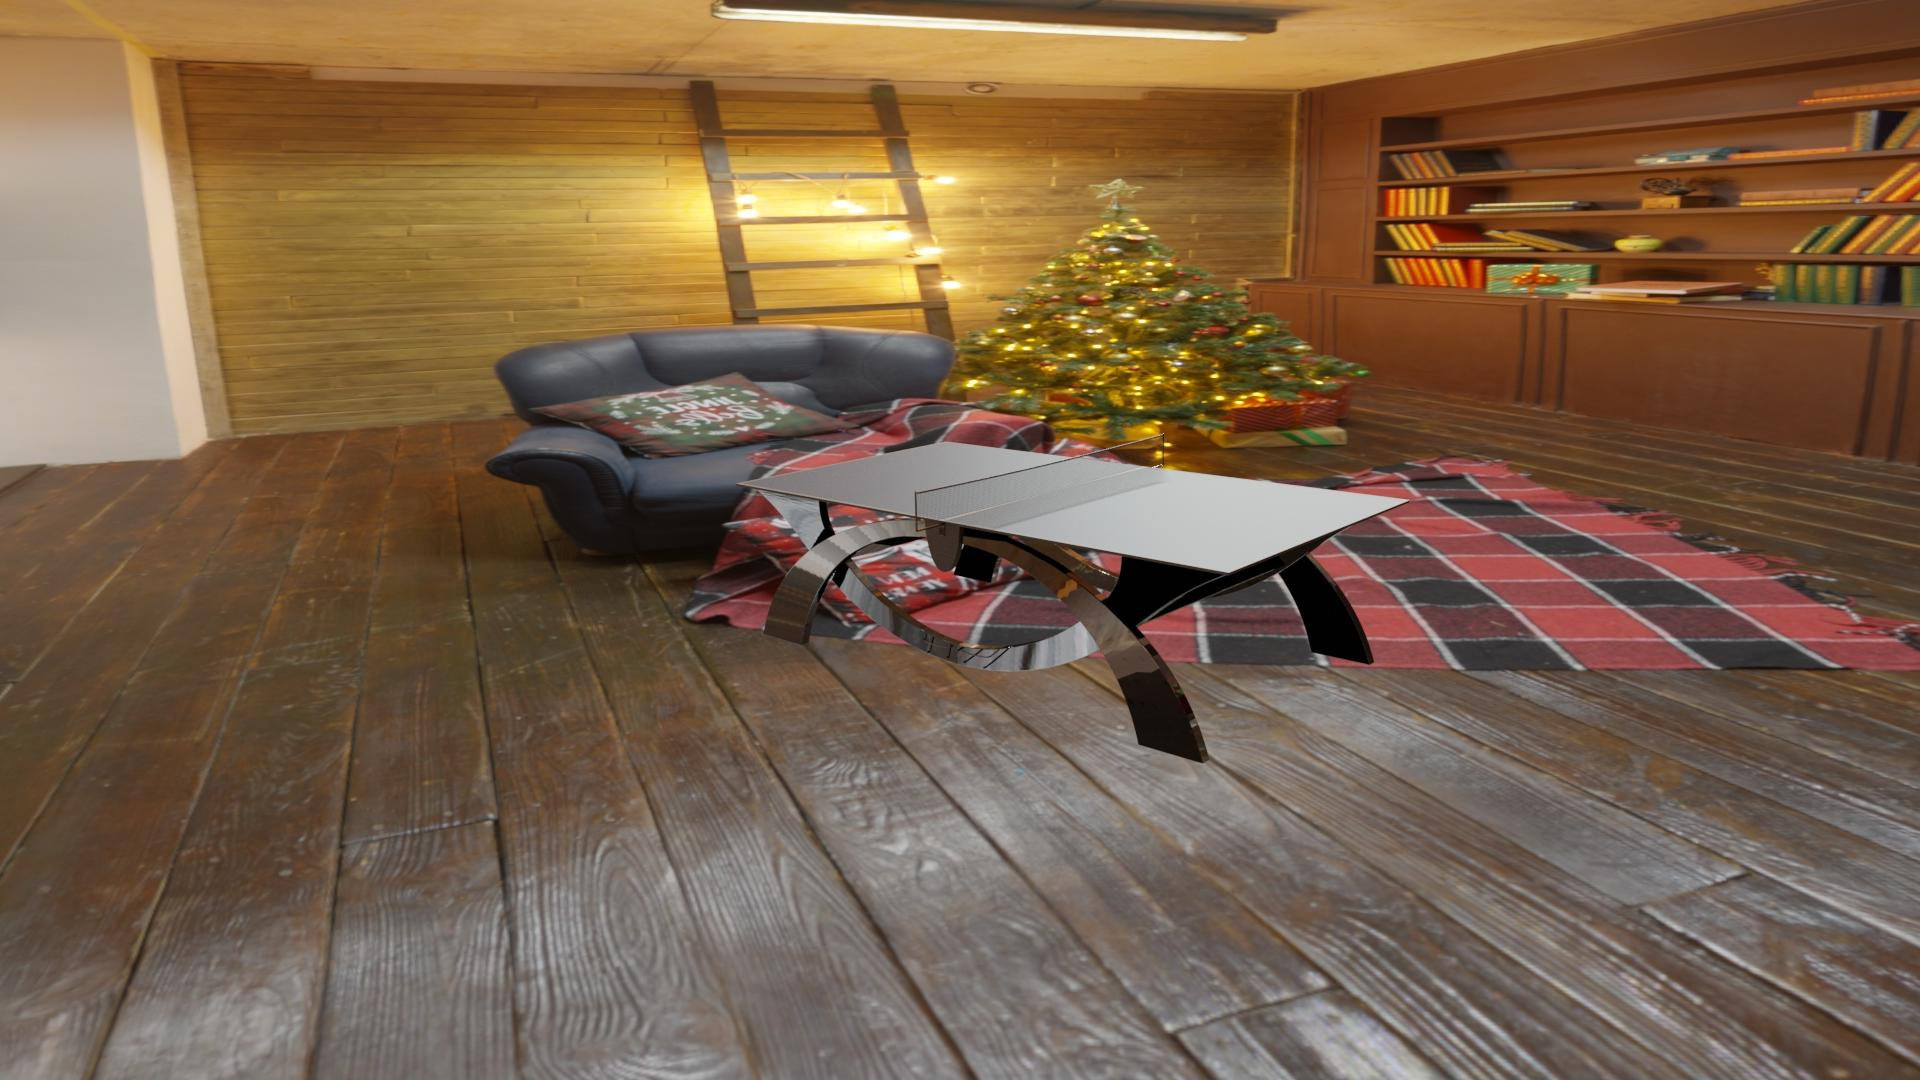table: (741, 443, 1403, 571)
